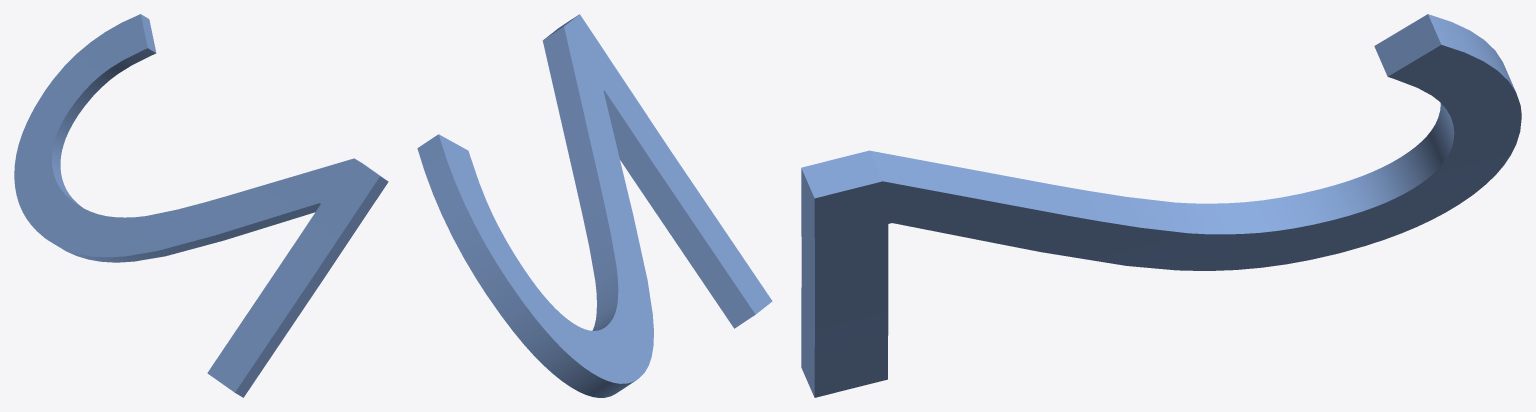
File: New_Number_2.gltf
3 views of the same model, side by side, from view 1: azimuth 30°, elevation 25°; view 2: azimuth 150°, elevation 25°; view 3: azimuth 270°, elevation 25° (orthographic). The views are drawn at different scales.
Parts seen in each view (by area): view 1: Part 596; view 2: Part 596; view 3: Part 596.
Part boxes in pixels (x1,y1,x2,y2): Part 596: (14, 14, 388, 397); Part 596: (417, 14, 772, 397); Part 596: (801, 14, 1521, 397).
Bounding box in the file's own units: 0.003 × 0.00342 × 0.00505.
